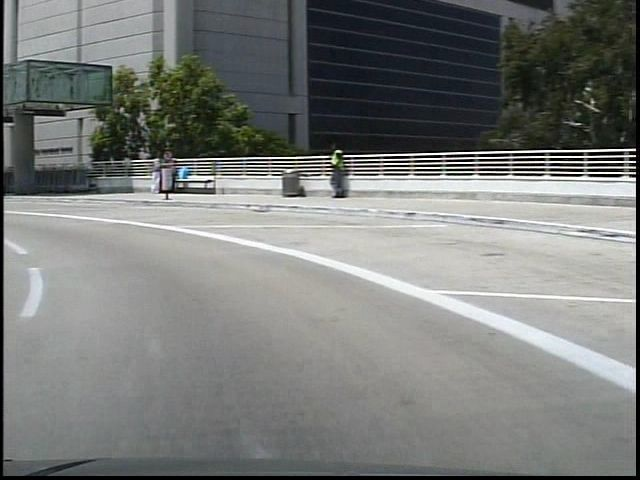person: (318, 140, 342, 201)
